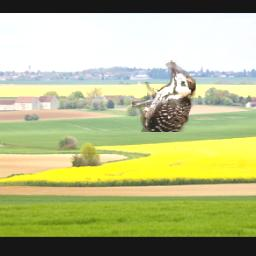Woodpecker: (131, 60, 195, 132)
